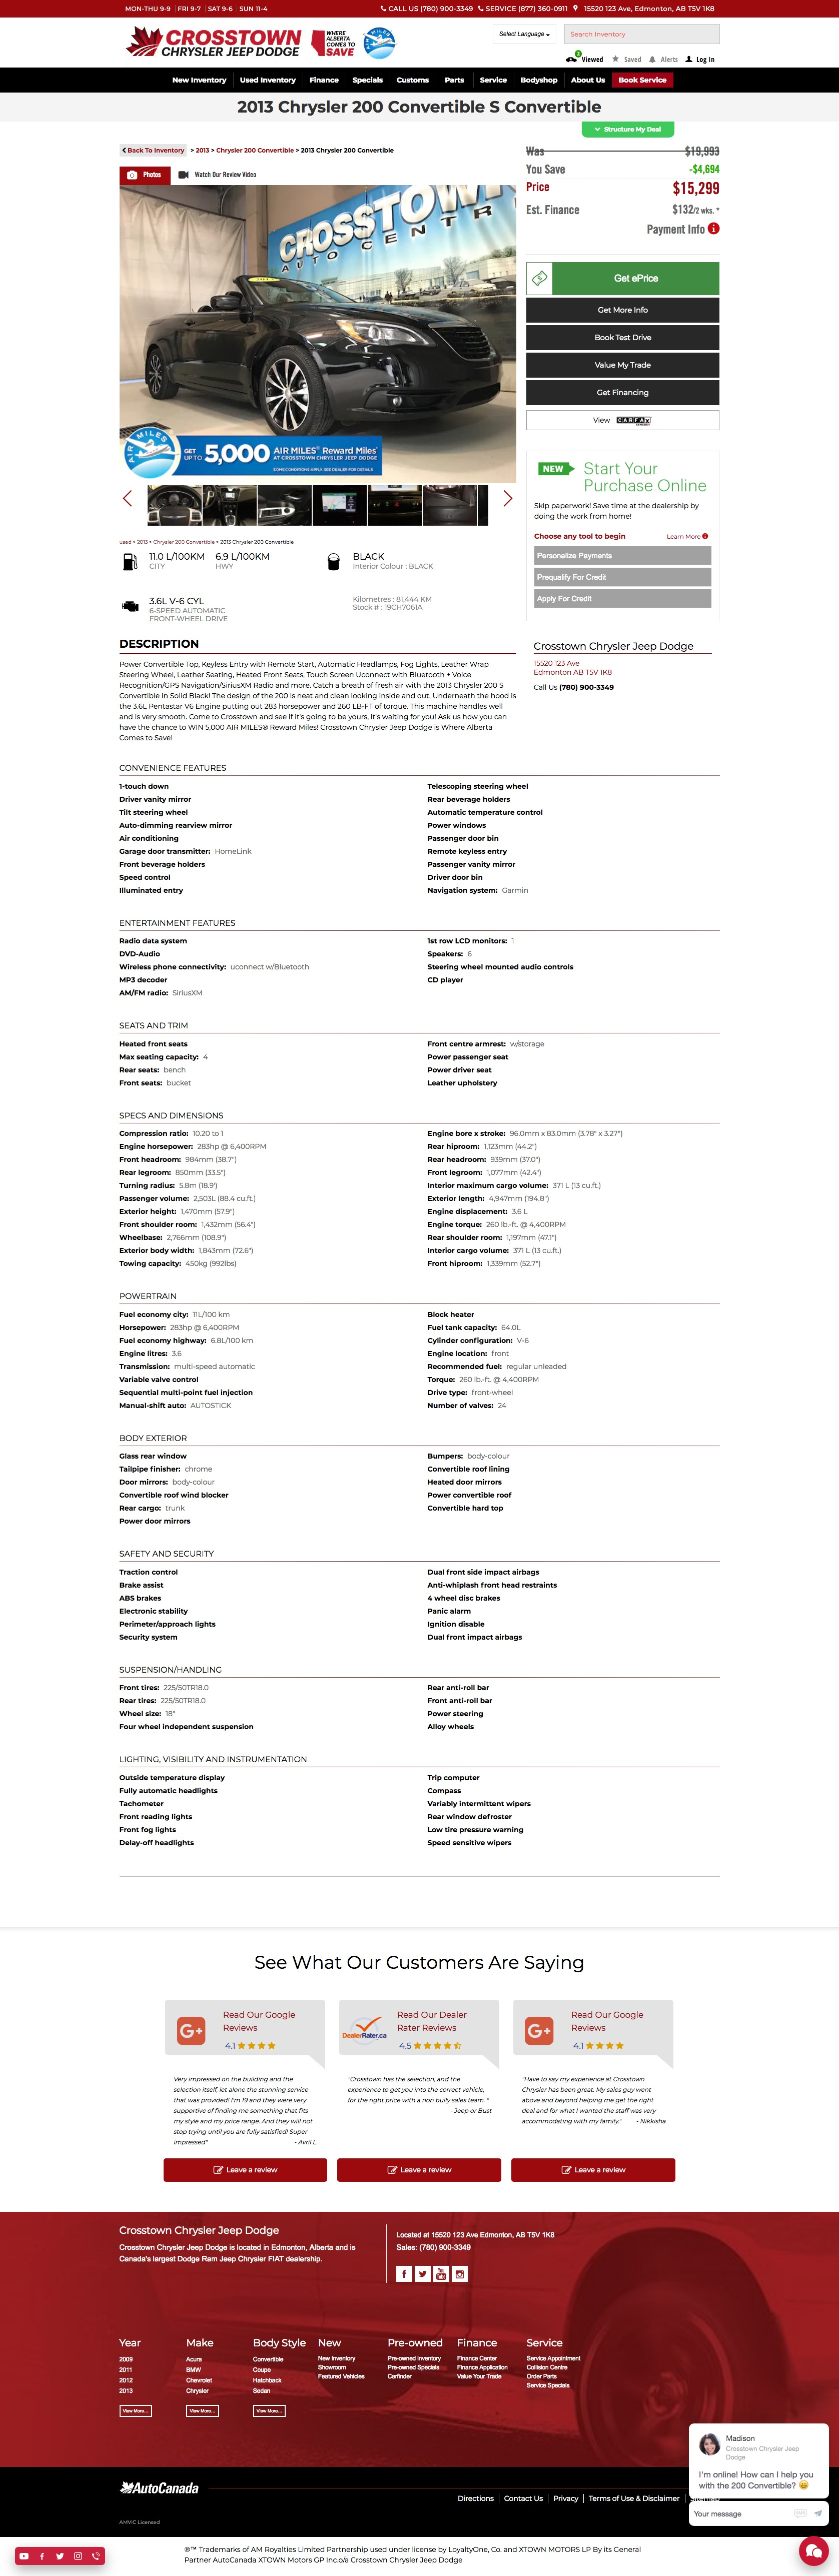car: (502, 490, 516, 508)
